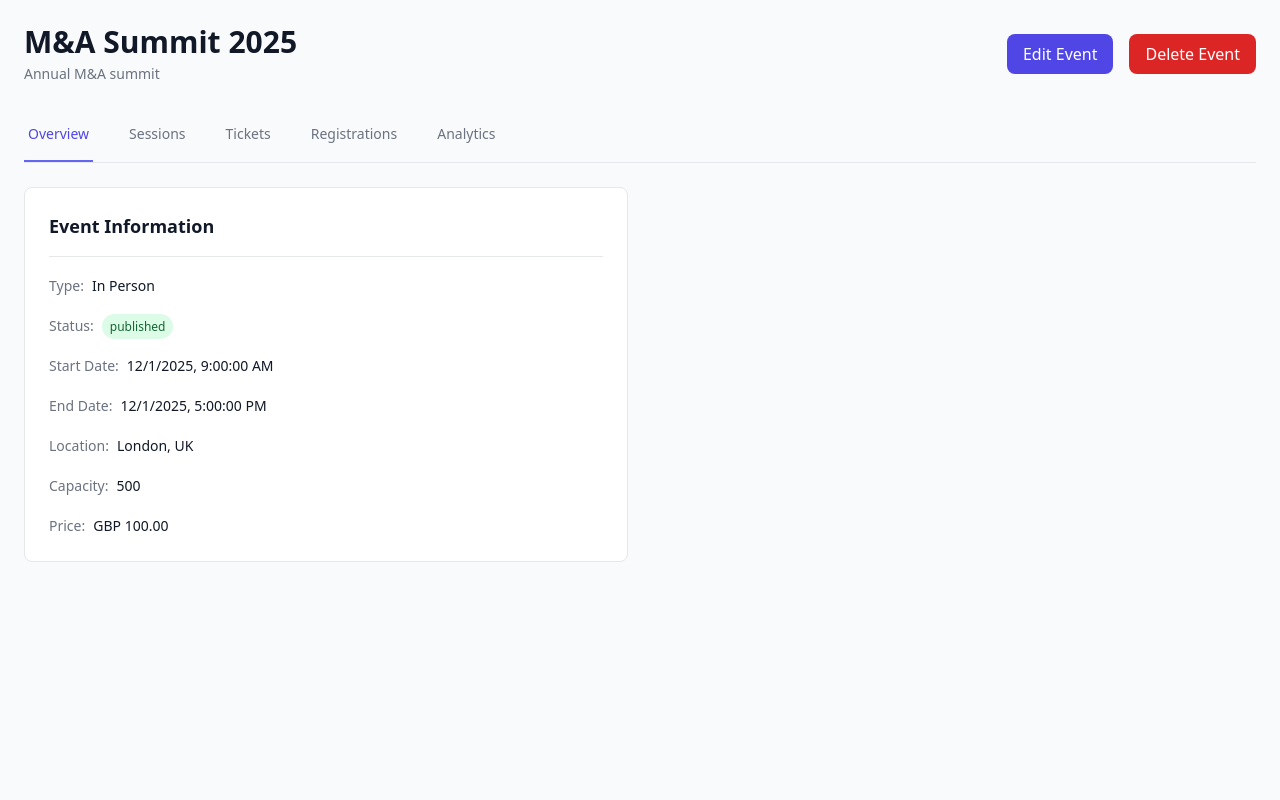
EventDetails › should load and display sessions when sessions tab clicked
Expected: the heading "M&A Summit 2025" is shown, [24,24,297,60]
# Click sessions tab
Click the button "Sessions" at (157, 135), box [125,108,190,162]
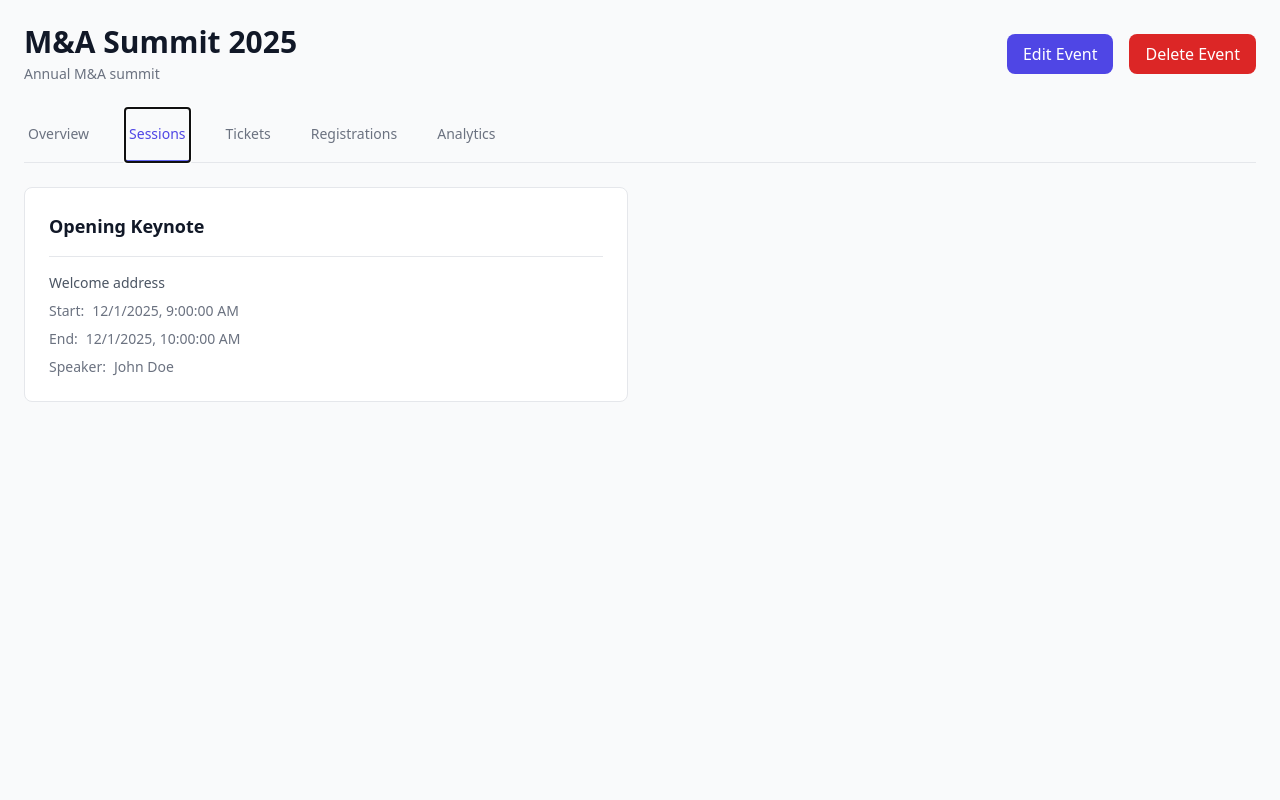
Now the heading "Opening Keynote" is shown, box [49,214,204,238]
Now the text "John Doe" is shown, box [114,357,174,377]
